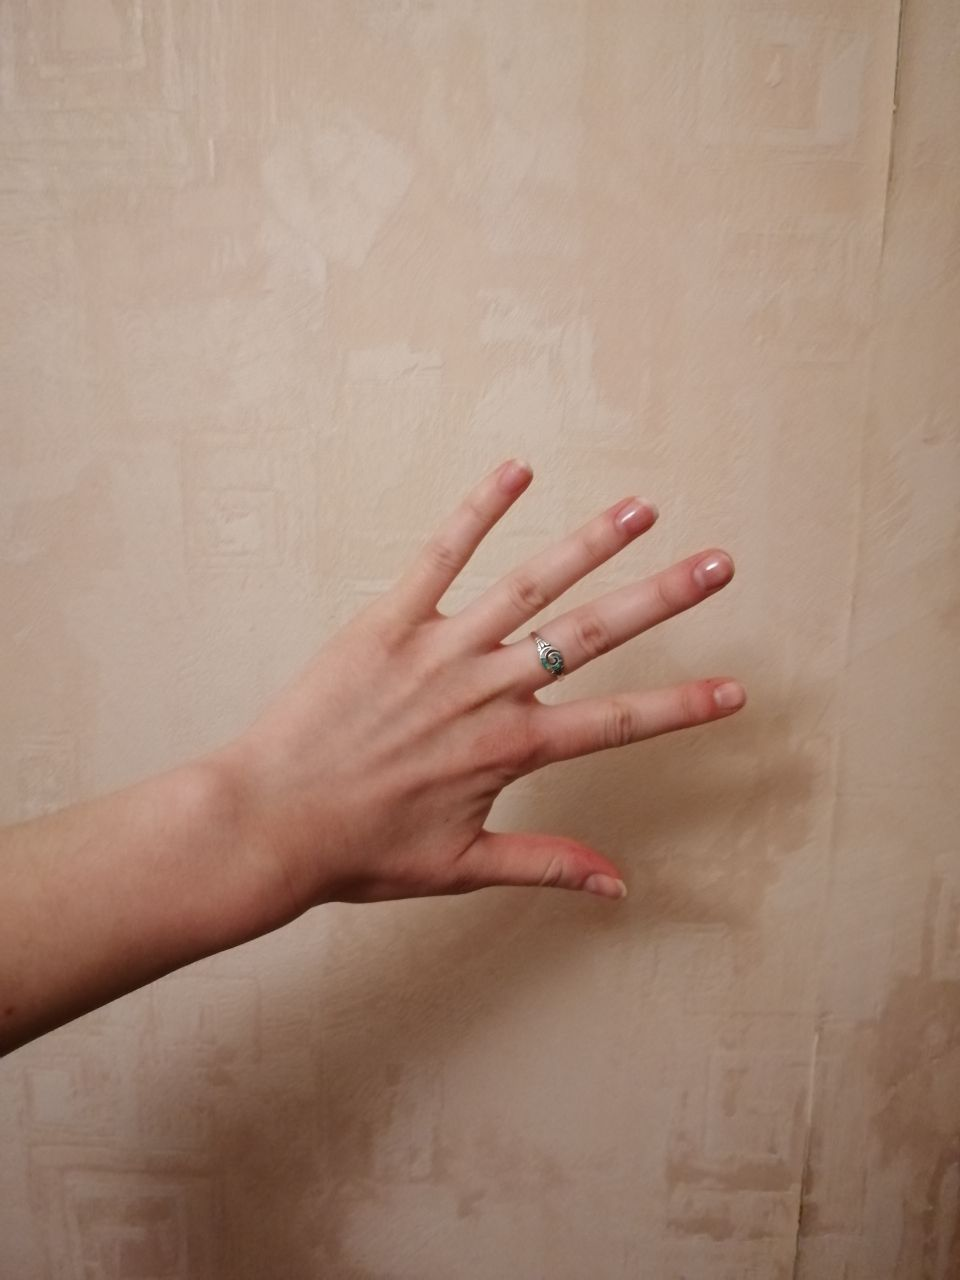hand: (315, 467, 730, 883)
